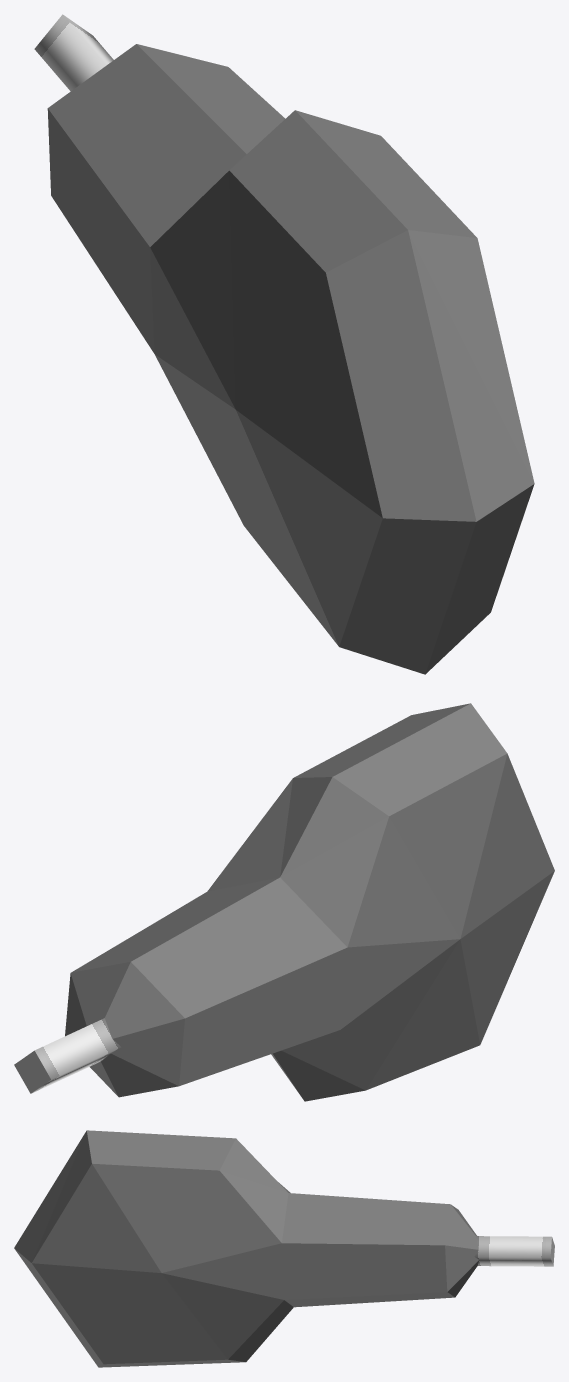
Rendered from sticklight_blu.dae.
3 renders of one model, top to bottom at view 1: azimuth 30°, elevation 25°; view 2: azimuth 150°, elevation 25°; view 3: azimuth 270°, elevation 25°, orthographic. The views are drawn at different scales.
Visible parts, largest first — view 1: sticklight_blu; view 2: sticklight_blu; view 3: sticklight_blu.
Part boxes in pixels (x1,y1,x2,y2): sticklight_blu: (34,14,534,674); sticklight_blu: (14,703,554,1101); sticklight_blu: (14,1130,554,1367).
Bounding box in the file's own units: 6.17 × 10.33 × 21.93.
2 materials, 1 textured.
